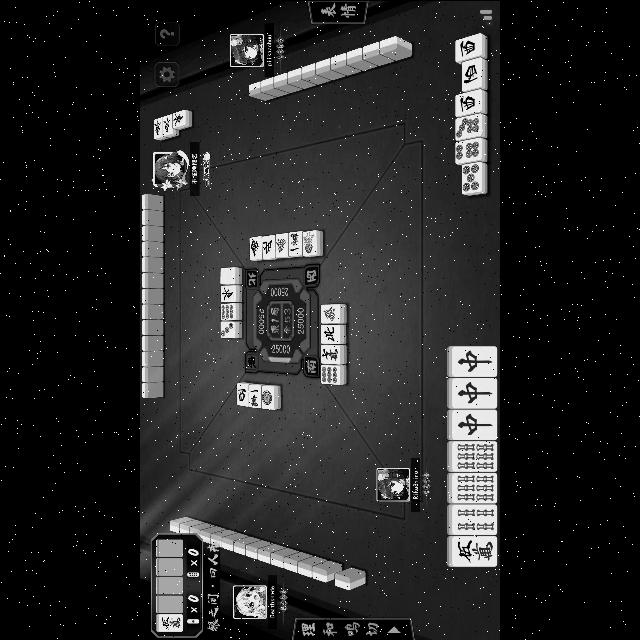1m: (288, 230, 302, 256), (249, 383, 261, 407)
1p: (262, 384, 280, 408)
1s: (303, 230, 323, 256)
3p: (220, 320, 242, 338)
4s: (447, 502, 498, 534)
5m: (447, 534, 498, 566), (156, 613, 184, 631)
5p: (462, 161, 488, 195)
6p: (455, 138, 487, 162)
6s: (447, 472, 498, 502), (447, 440, 498, 470)
7m: (322, 343, 346, 362)
7p: (456, 112, 486, 140)
9p: (322, 364, 346, 384), (222, 302, 242, 320)
chun: (447, 408, 498, 439), (447, 377, 498, 407), (447, 346, 497, 376)
haku: (220, 267, 242, 283)
hatsu: (320, 304, 346, 322), (276, 232, 288, 258)
nan: (250, 236, 262, 260)
pe: (321, 323, 347, 342), (263, 234, 275, 260)
sha: (455, 32, 487, 62), (462, 56, 488, 90), (456, 88, 486, 116), (237, 382, 249, 406)
tou: (172, 108, 192, 130), (222, 284, 242, 302), (154, 116, 162, 140), (164, 113, 172, 137)
